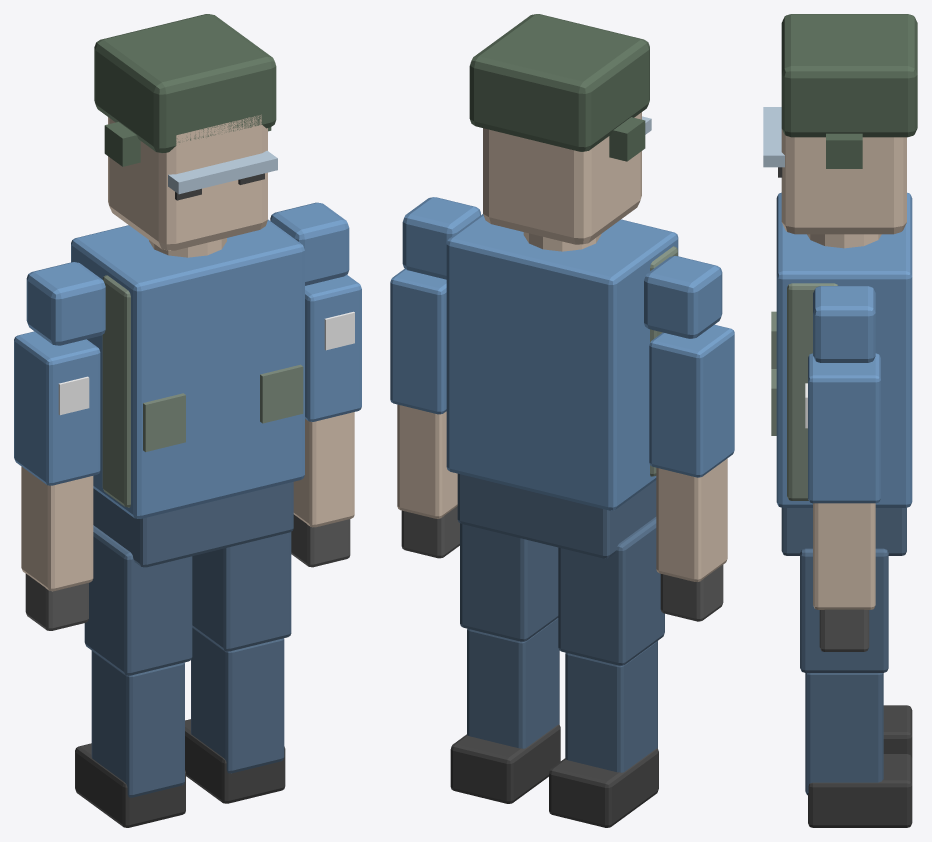
Rendered from soldier_ct.glb.
3 views of the same model, side by side, from view 1: azimuth 30°, elevation 25°; view 2: azimuth 150°, elevation 25°; view 3: azimuth 270°, elevation 25° (orthographic).
Visible parts, largest first — view 1: Torso, Helmet, Head, UpperLeg_L, UpperArm_L, LowerLeg_L, LowerLeg_R, UpperLeg_R, Pelvis, ForeArm_L, UpperArm_R, Vest (+14 smaller); view 2: Torso, Helmet, Head, UpperArm_L, UpperLeg_L, LowerLeg_L, LowerLeg_R, UpperLeg_R, Pelvis, UpperArm_R, ForeArm_L, Boot_L (+8 smaller); view 3: Torso, Helmet, Head, UpperArm_R, LowerLeg_R, ForeArm_R, Boot_R, UpperLeg_R, Vest, Shoulder_R, Pelvis, Hand_R (+6 smaller).
Part boxes in pixels (x1=…): Torso: x1=71, y1=219, x2=304, y2=518; Helmet: x1=94, y1=14, x2=276, y2=153; Head: x1=108, y1=114, x2=267, y2=250; UpperLeg_L: x1=84, y1=525, x2=192, y2=675; UpperArm_L: x1=14, y1=331, x2=100, y2=485; LowerLeg_L: x1=91, y1=651, x2=184, y2=797; LowerLeg_R: x1=191, y1=627, x2=284, y2=773; UpperLeg_R: x1=192, y1=532, x2=291, y2=651; Pelvis: x1=93, y1=482, x2=293, y2=567; ForeArm_L: x1=21, y1=466, x2=93, y2=591; UpperArm_R: x1=305, y1=275, x2=361, y2=421; Vest: x1=102, y1=275, x2=130, y2=507; Torso: x1=446, y1=214, x2=678, y2=510; Helmet: x1=469, y1=14, x2=649, y2=151; Head: x1=483, y1=112, x2=641, y2=244; UpperArm_L: x1=649, y1=324, x2=734, y2=477; UpperLeg_L: x1=558, y1=517, x2=664, y2=665; LowerLeg_L: x1=565, y1=641, x2=657, y2=772; LowerLeg_R: x1=467, y1=618, x2=559, y2=748; UpperLeg_R: x1=460, y1=523, x2=558, y2=641; Pelvis: x1=457, y1=473, x2=656, y2=558; UpperArm_R: x1=390, y1=268, x2=446, y2=414; ForeArm_L: x1=656, y1=458, x2=727, y2=581; Boot_L: x1=549, y1=748, x2=658, y2=827; Torso: x1=776, y1=192, x2=912, y2=507; Helmet: x1=781, y1=14, x2=917, y2=137; Head: x1=781, y1=129, x2=906, y2=234; UpperArm_R: x1=808, y1=353, x2=880, y2=503; LowerLeg_R: x1=805, y1=673, x2=883, y2=795; ForeArm_R: x1=813, y1=503, x2=875, y2=609; Boot_R: x1=808, y1=754, x2=912, y2=827; UpperLeg_R: x1=800, y1=548, x2=888, y2=672; Vest: x1=787, y1=283, x2=837, y2=500; Shoulder_R: x1=813, y1=286, x2=875, y2=362; Pelvis: x1=781, y1=507, x2=906, y2=555; Hand_R: x1=819, y1=609, x2=869, y2=651.
Size of the model in its own units: 0.7 by 1.59 by 0.295.
